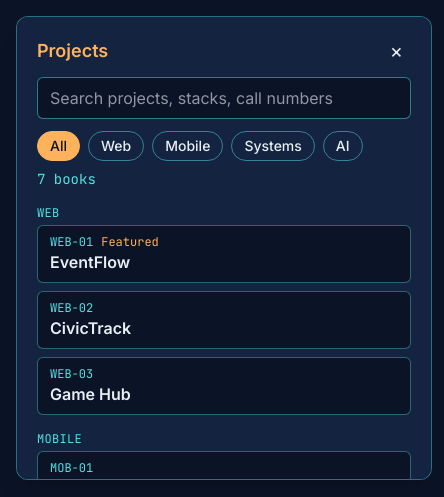
Test: LibraryPanel › filters by shelf with toggle buttons
Click the button "Systems" at (273, 146), box [231,131,315,161]
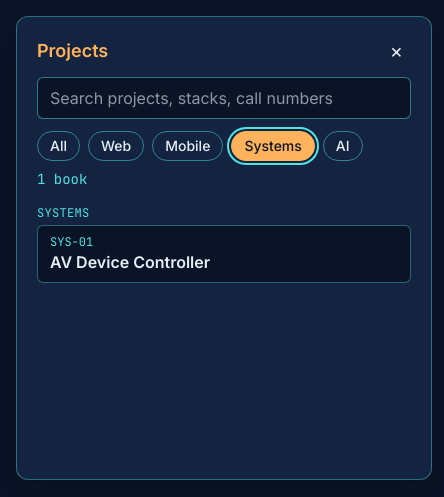
Now the message reads "1 book", box [37,170,87,188]
Now the button "SYS-01 AV Device Controller" is shown, box [37,225,411,283]
